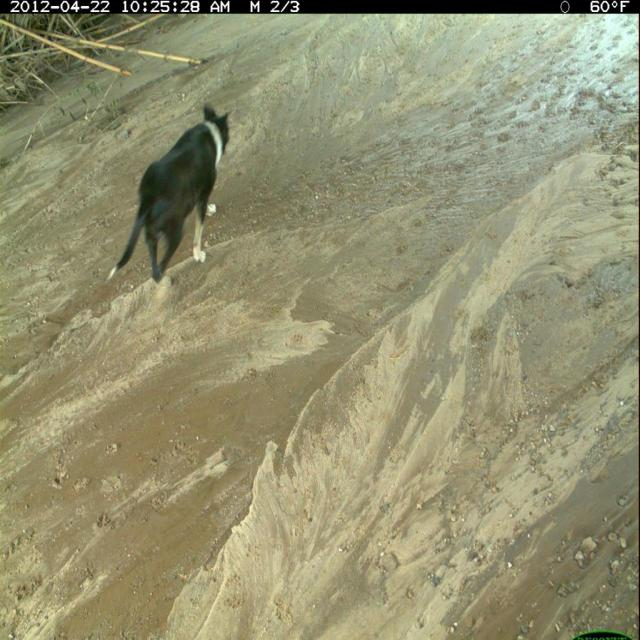dog: (105, 101, 235, 297)
